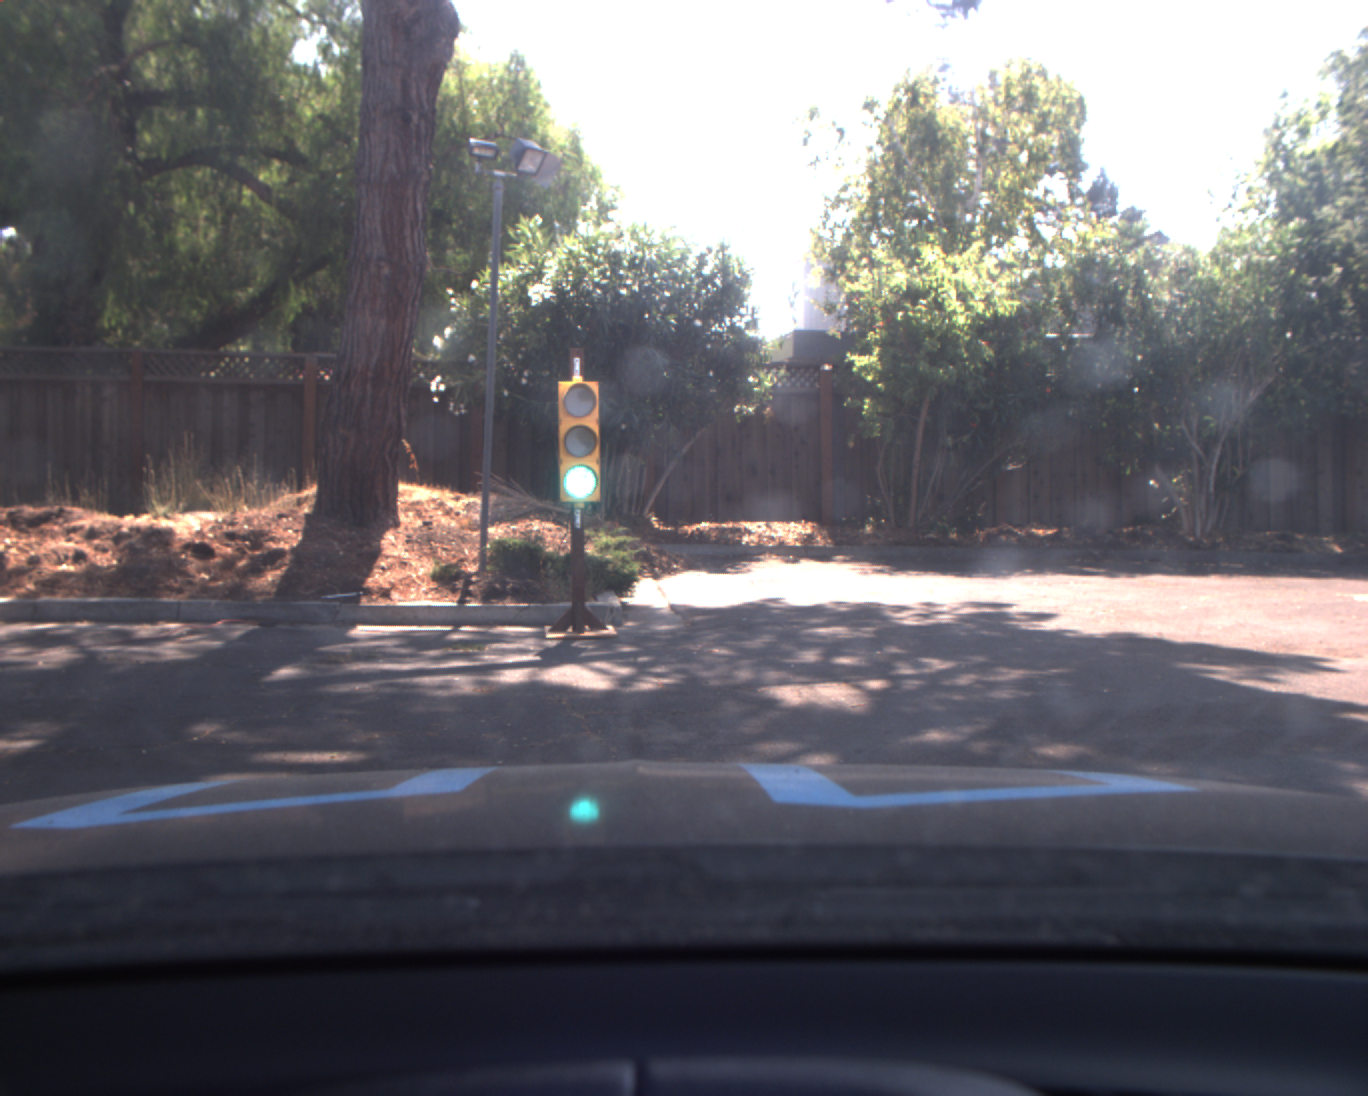green: (554, 374, 604, 506)
